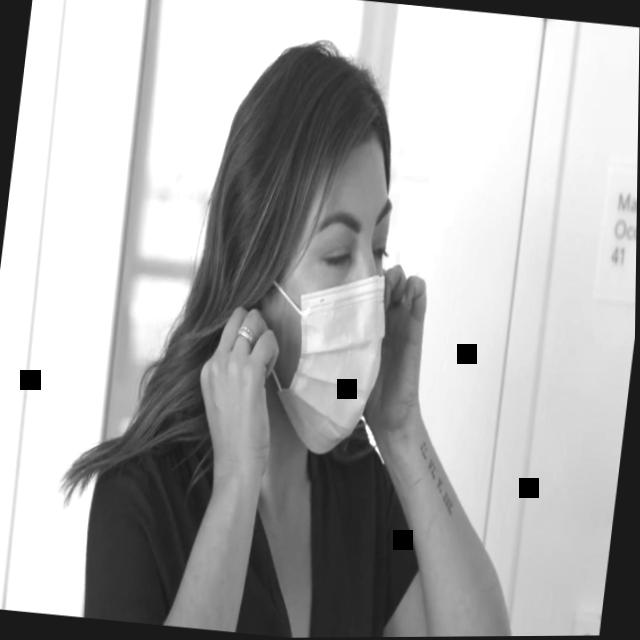Mask: (239, 126, 410, 459)
